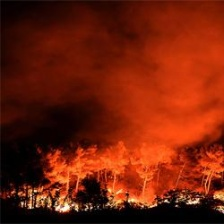fire: (8, 164, 224, 221)
